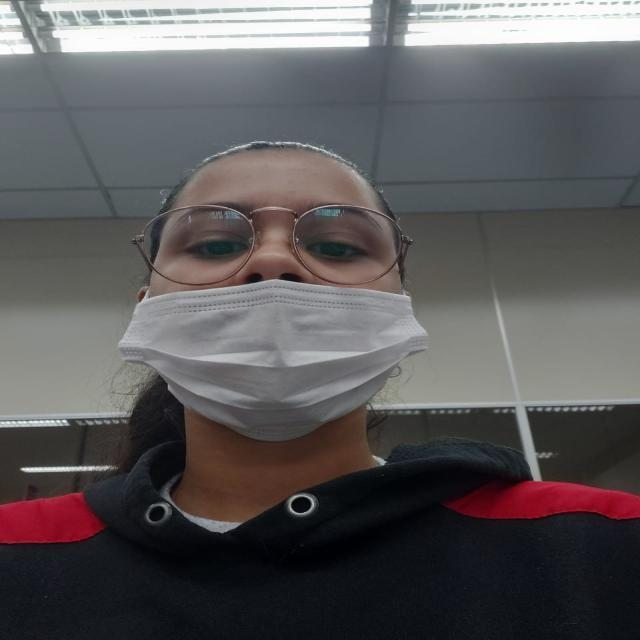hairnet: (149, 164, 399, 403)
